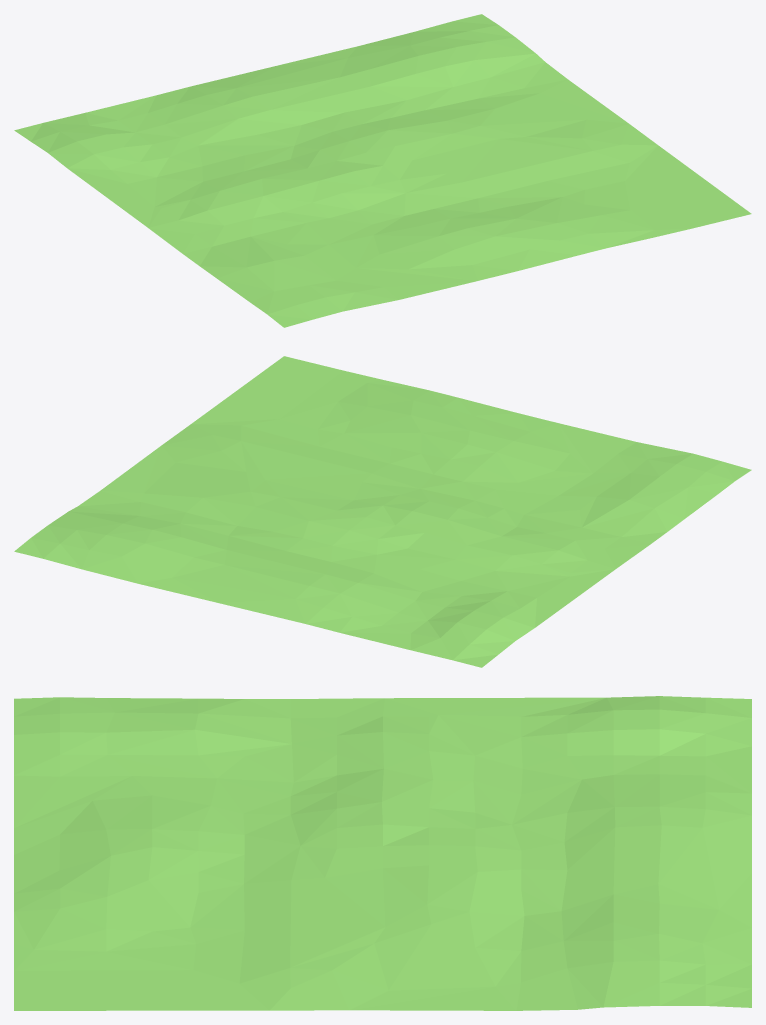
Rendered from grashmesh1.fbx.
3 views of the same model, one above another, from view 1: azimuth 30°, elevation 25°; view 2: azimuth 150°, elevation 25°; view 3: azimuth 270°, elevation 25° (orthographic). The views are drawn at different scales.
Visible parts, largest first — view 1: Plane; view 2: Plane; view 3: Plane.
Part boxes in pixels (box(x1,y1,x2,y2)): Plane: box(14, 14, 751, 327); Plane: box(14, 356, 751, 667); Plane: box(14, 696, 751, 1010).
Bounding box in the file's own units: 2000 × 37.45 × 2001.
